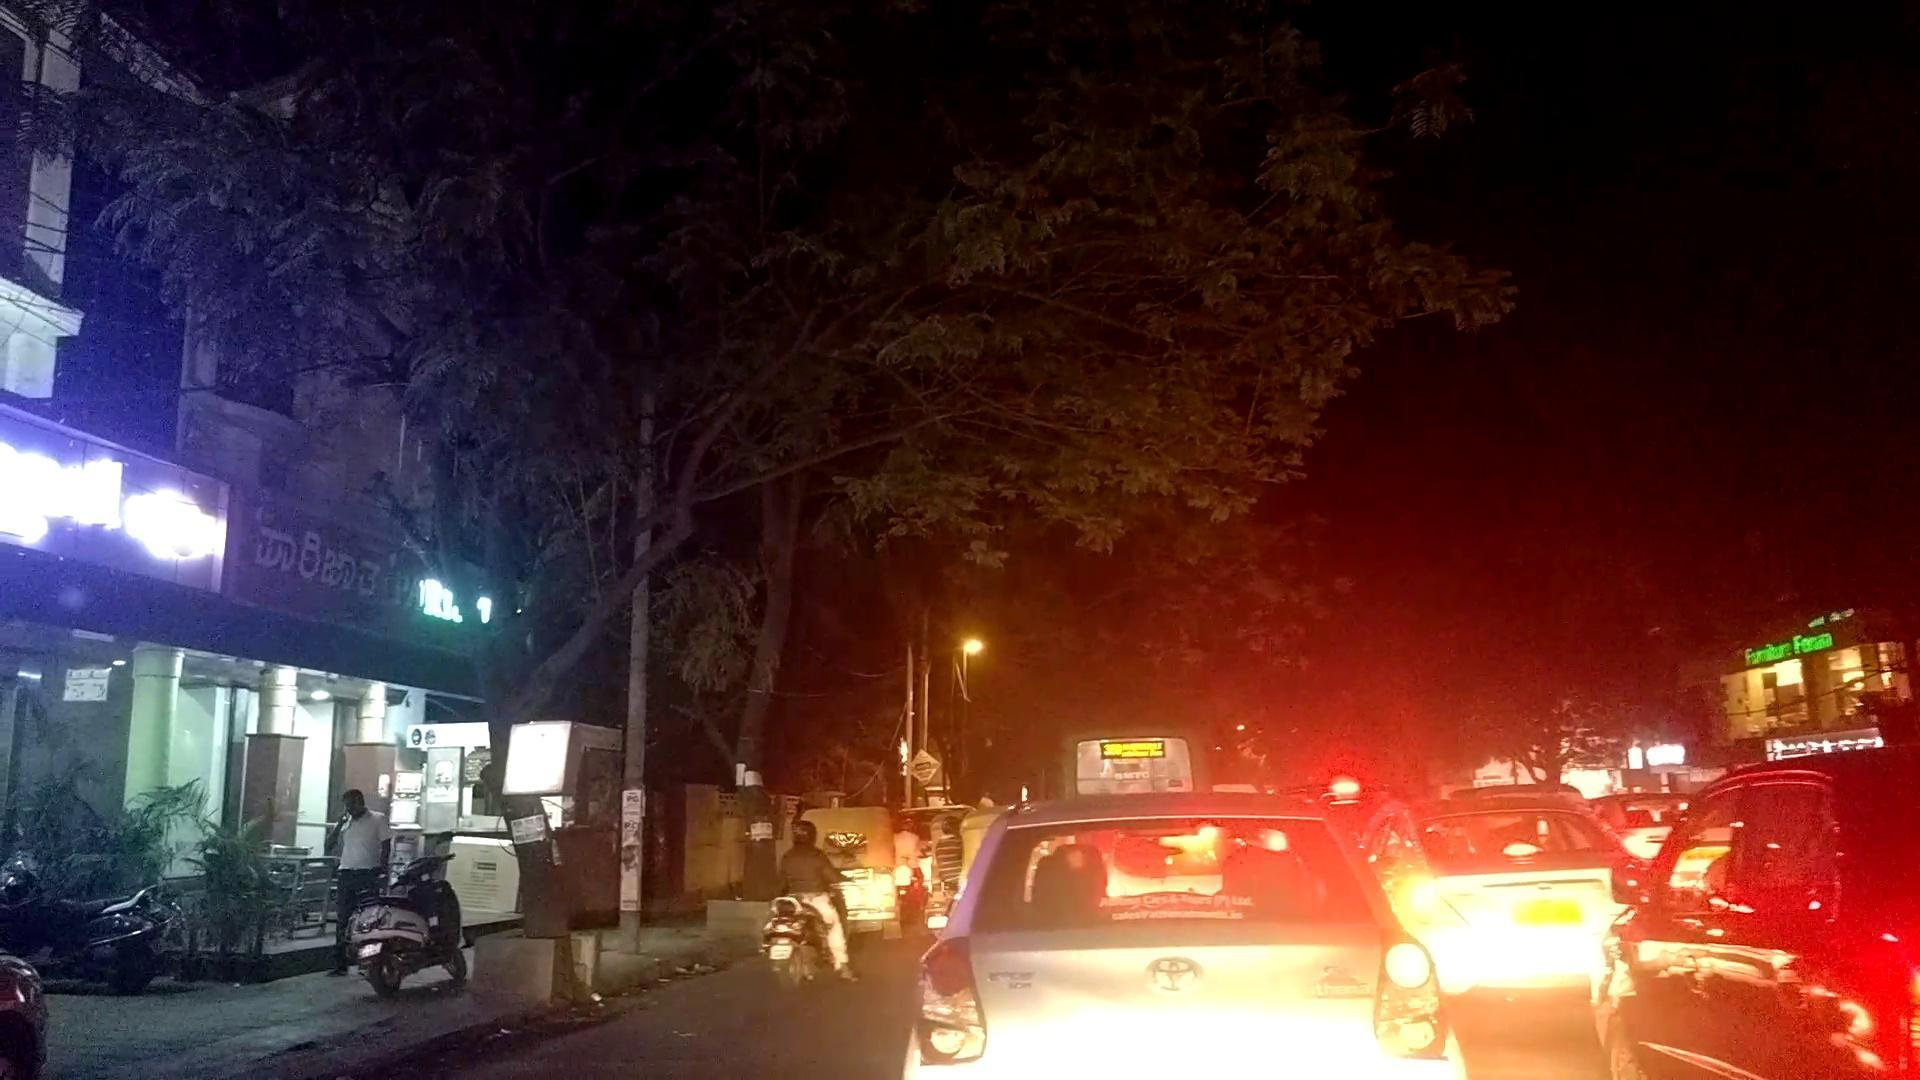on: (90, 0, 1911, 1080)
